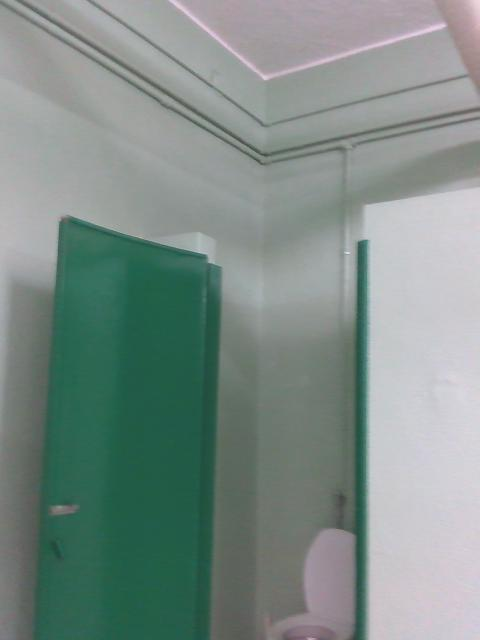open_door: (194, 203, 367, 638)
